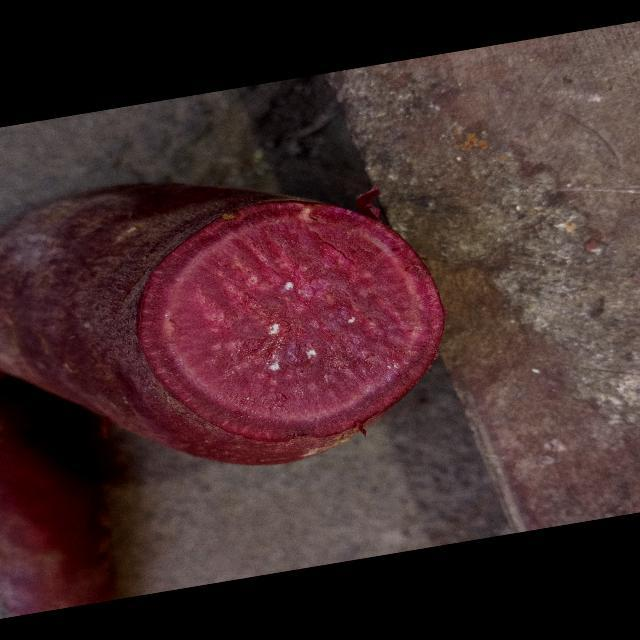Healthy Sweet Potato: (138, 201, 445, 441)
